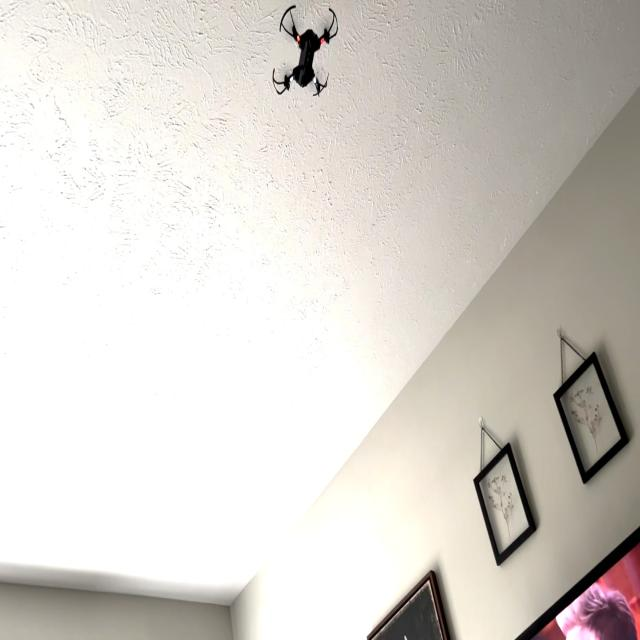drone: (268, 0, 342, 105)
